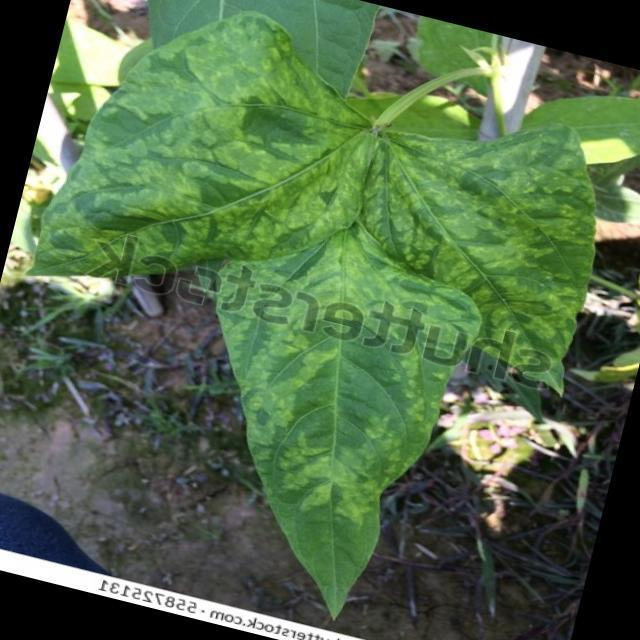Mosaic Virus: (32, 0, 388, 314), (182, 232, 472, 550), (336, 100, 634, 384)
